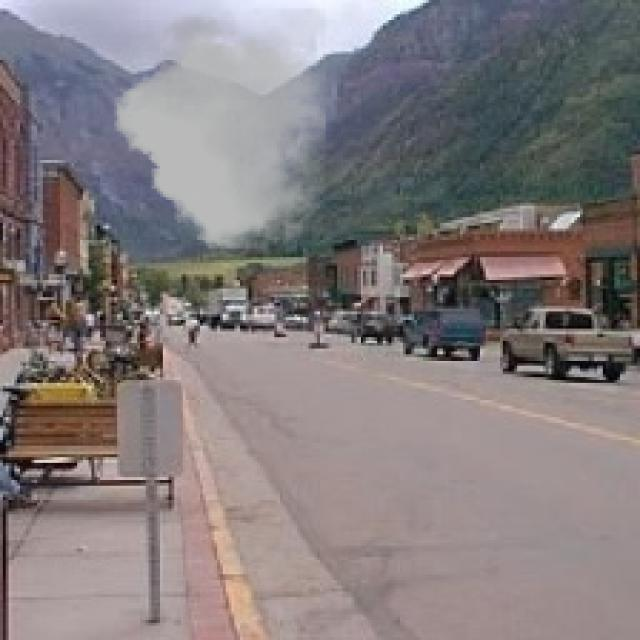smoke: (114, 9, 326, 254)
